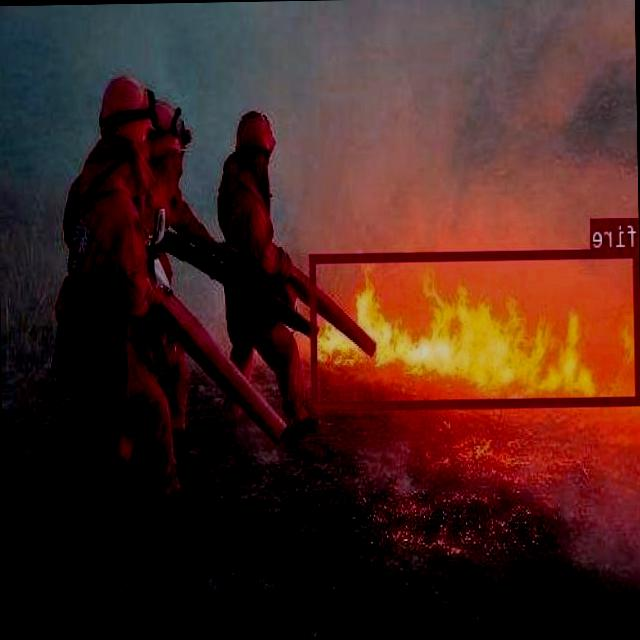fire: (309, 247, 640, 408)
